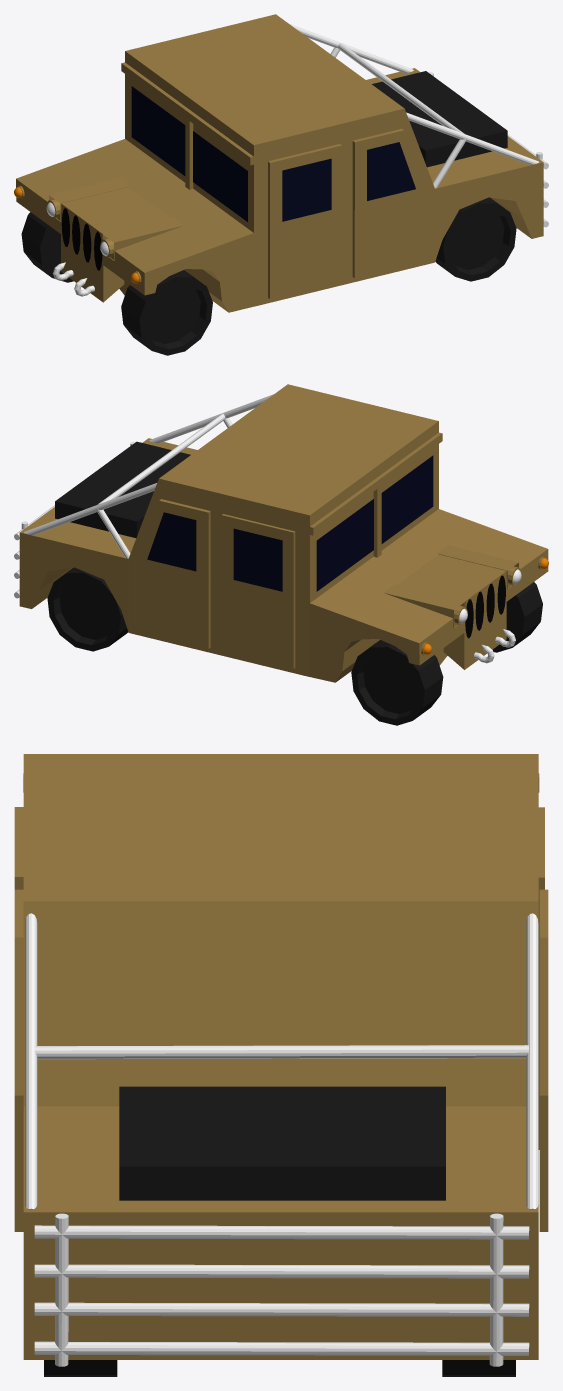
File: HumB.fbx
3 renders of one model, top to bottom at view 1: azimuth 30°, elevation 25°; view 2: azimuth 150°, elevation 25°; view 3: azimuth 270°, elevation 25°, orthographic. The views are drawn at different scales.
Visible parts, largest first — view 1: Cube, Cube.012, Cube.013, Plane.004, Cylinder, Cube.021, Cube.004, Cube.003, Cube.016, Cylinder.032, Cube.005, Cube.001 (+11 smaller); view 2: Cube, Cube.012, Cube.013, Plane.004, Cylinder.001, Cube.021, Cube.007, Cube.008, Cube.016, Cylinder.031, Cube.005, Cube.010 (+11 smaller); view 3: Cube, Cube.013, Cube.021, Cylinder.029, Cylinder.033, Cylinder.034, Cylinder.036, Cylinder.035, Cylinder.025, Cylinder.026, Cube.002, Cube.009 (+8 smaller).
Part boxes in pixels (x1,y1,x2,y2): Cube: (125,14,434,232); Cube.012: (16,139,253,312); Cube.013: (366,68,543,261); Plane.004: (131,86,247,221); Cylinder: (121,270,212,355); Cube.021: (372,71,507,167); Cube.004: (352,193,426,278); Cube.003: (268,213,341,298); Cube.016: (61,187,170,302); Cylinder.032: (435,197,516,281); Cube.005: (254,189,434,306); Cube.001: (268,144,341,231); Cube: (128,384,438,603); Cube.012: (310,509,548,682); Cube.013: (19,438,197,630); Plane.004: (316,455,433,591); Cylinder.001: (351,640,443,725); Cube.021: (55,441,190,537); Cube.007: (136,563,210,648); Cube.008: (221,583,295,668); Cube.016: (397,554,506,669); Cylinder.031: (47,567,128,651); Cube.005: (128,559,309,676); Cube.010: (221,514,295,600); Cube: (23,754,538,1106); Cube.013: (23,1106,538,1359); Cube.021: (119,1086,445,1200); Cylinder.029: (34,1045,528,1059); Cylinder.033: (34,1341,529,1355); Cylinder.034: (34,1302,529,1316); Cylinder.036: (34,1264,529,1278); Cylinder.035: (34,1225,529,1239); Cylinder.025: (526,913,538,1209); Cylinder.026: (25,913,37,1209); Cube.002: (14,889,23,1095); Cube.009: (539,889,548,1095).
Bounding box in the file's own units: 1039 × 453 × 565.
